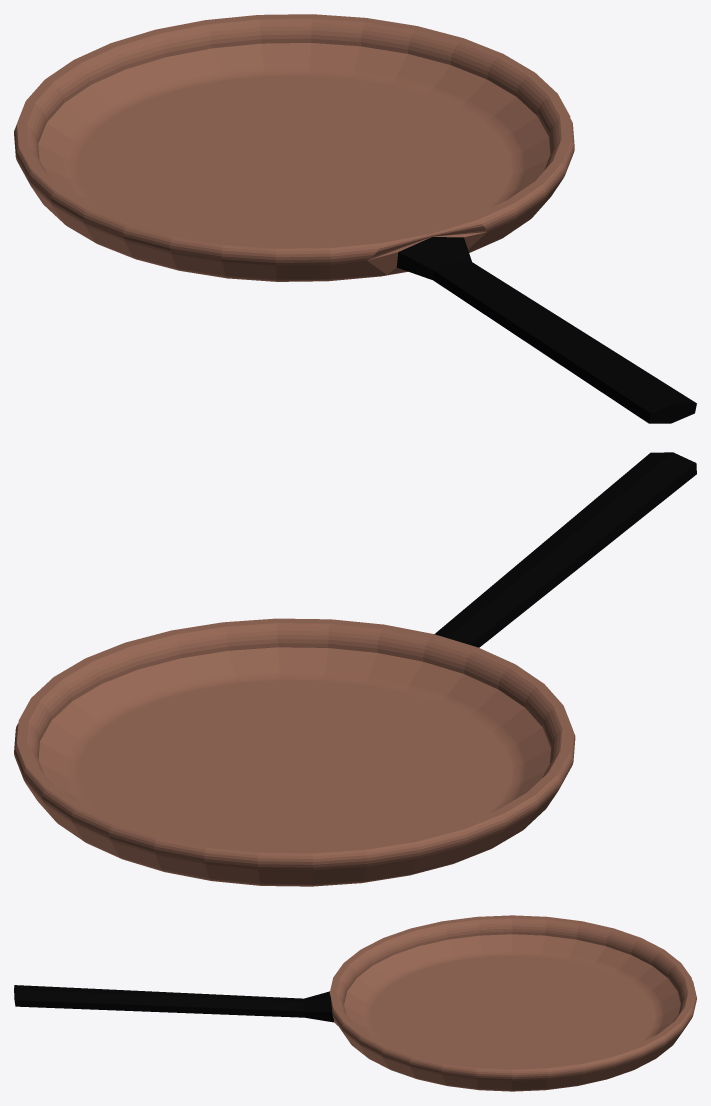
The model's file is pan.fbx.
3 views of the same model, one above another, from view 1: azimuth 30°, elevation 25°; view 2: azimuth 150°, elevation 25°; view 3: azimuth 270°, elevation 25° (orthographic). The views are drawn at different scales.
Visible parts, largest first — view 1: casserol; view 2: casserol; view 3: casserol.
Part boxes in pixels (x1=…): casserol: x1=14, y1=14, x2=696, y2=423; casserol: x1=14, y1=452, x2=696, y2=886; casserol: x1=14, y1=915, x2=696, y2=1091.
Size of the model in its own units: 3529 by 332 by 6530.
